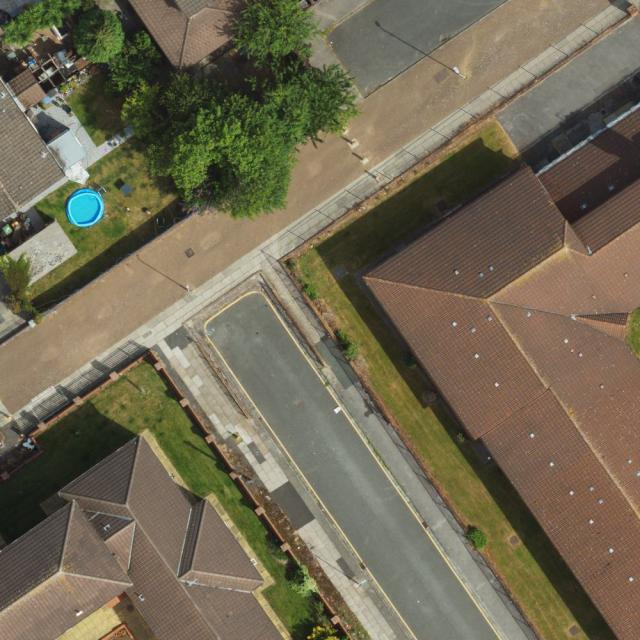roof: (362, 106, 640, 640), (0, 433, 287, 640), (0, 69, 65, 223), (130, 1, 247, 74)
